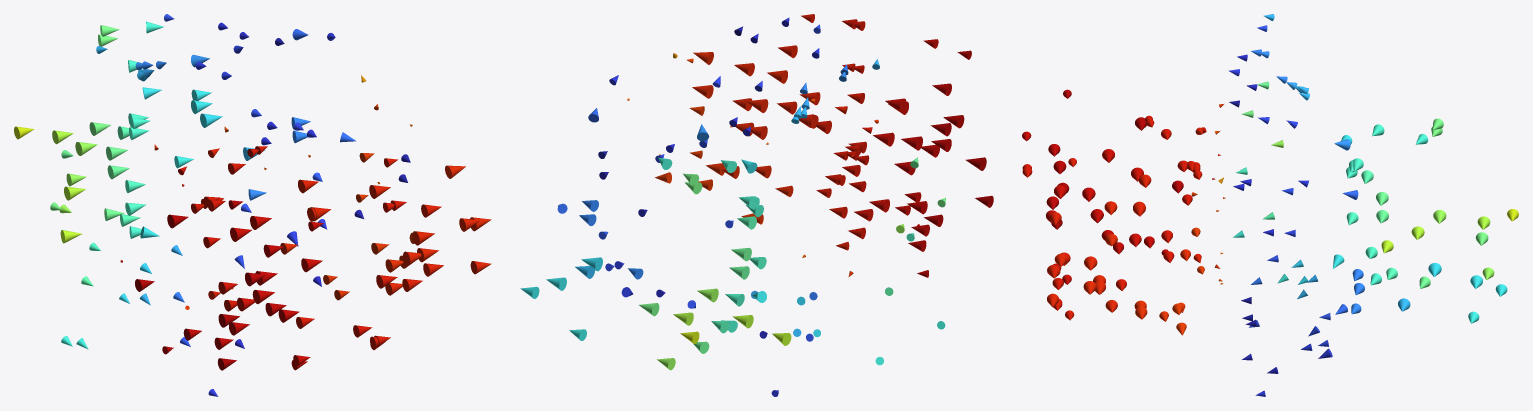
File: LineasCorrienteH2-O2_mh2-5.58_V-0.9.glb
The picture shows the model from 3 angles, left to right: view 1: azimuth 30°, elevation 25°; view 2: azimuth 150°, elevation 25°; view 3: azimuth 270°, elevation 25°; orthographic projection. The views are drawn at different scales.
Bounding box in the file's own units: 0.000919 × 0.000961 × 0.00123.
Materials: 2 (2 with a texture image).
